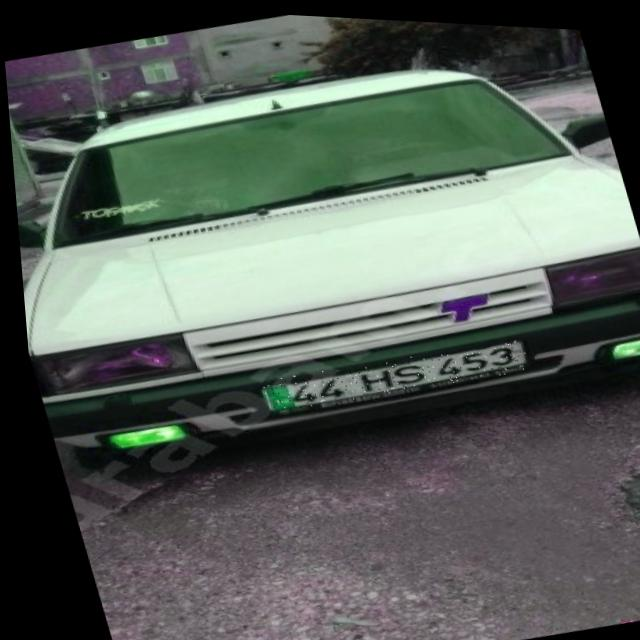license_plate: (251, 321, 529, 420)
